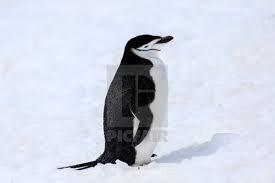chinstrap: (70, 19, 189, 176)
